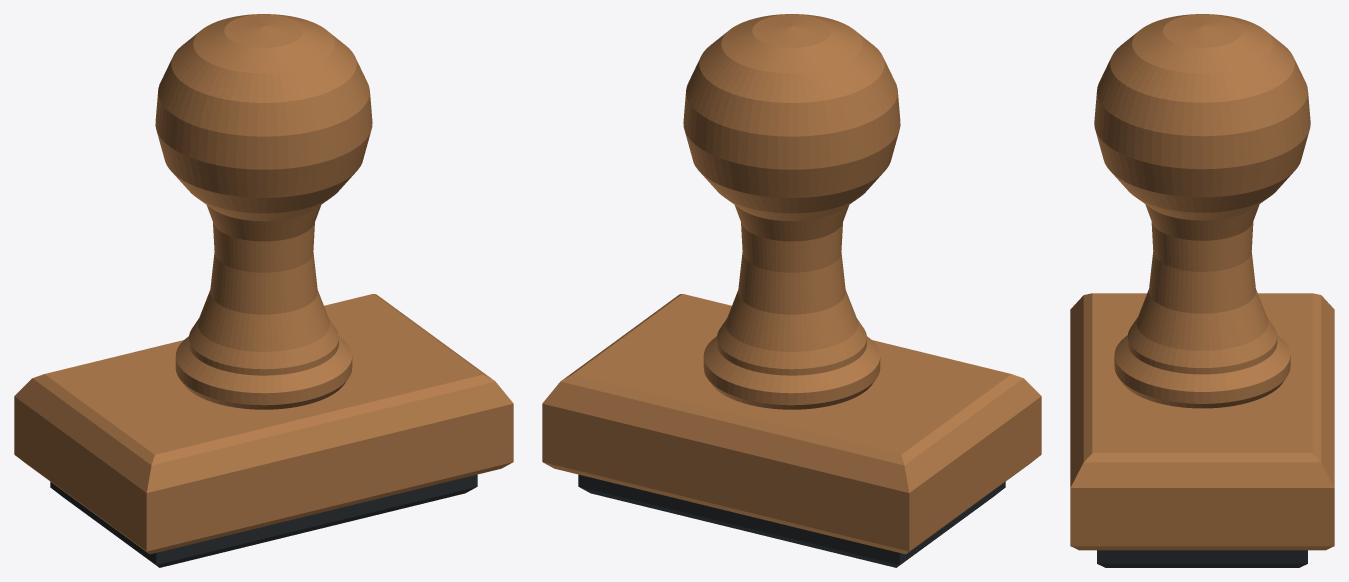
Rendered from NEW_RECOVERY_108_LOD0.glb.
The picture shows the model from 3 angles, left to right: view 1: azimuth 30°, elevation 25°; view 2: azimuth 150°, elevation 25°; view 3: azimuth 270°, elevation 25°; orthographic projection.
Parts seen in each view (by area): view 1: Traditional_hand_stamp; view 2: Traditional_hand_stamp; view 3: Traditional_hand_stamp.
Boxes of the visible parts, bbox=[...] form: Traditional_hand_stamp: bbox=[14, 14, 513, 567]; Traditional_hand_stamp: bbox=[542, 14, 1041, 567]; Traditional_hand_stamp: bbox=[1070, 14, 1334, 567].
Size of the model in its own units: 0.048 by 0.0592 by 0.03.
